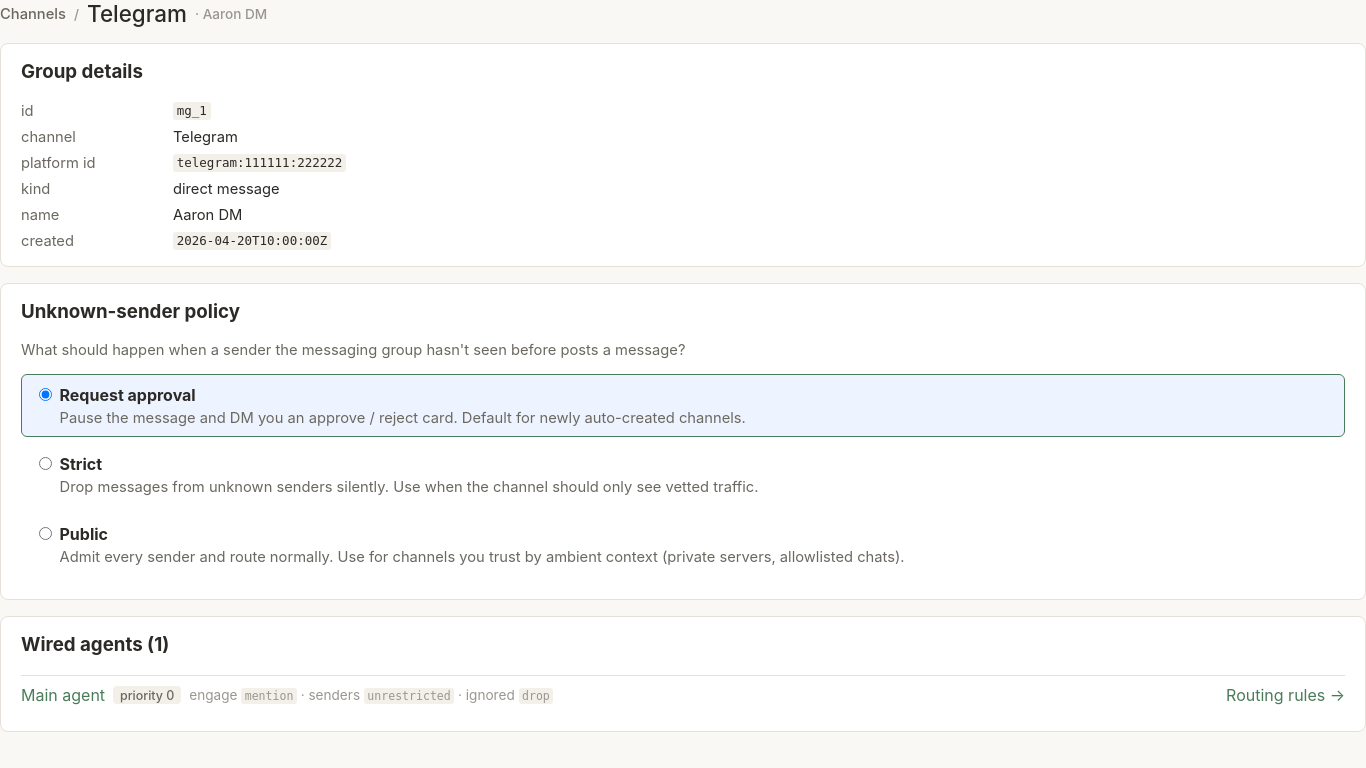
Scenario: MessagingGroupDetail — policy edit › surfaces an error banner when the PATCH fails
Expected: the radio button labelled "Request approval" is checked, [39,388,52,401]
What coordinates should you click on to do the following:
click the radio button labelled "Strict"
I would click on:
 (46, 464)
Its box is [39,457,52,470].
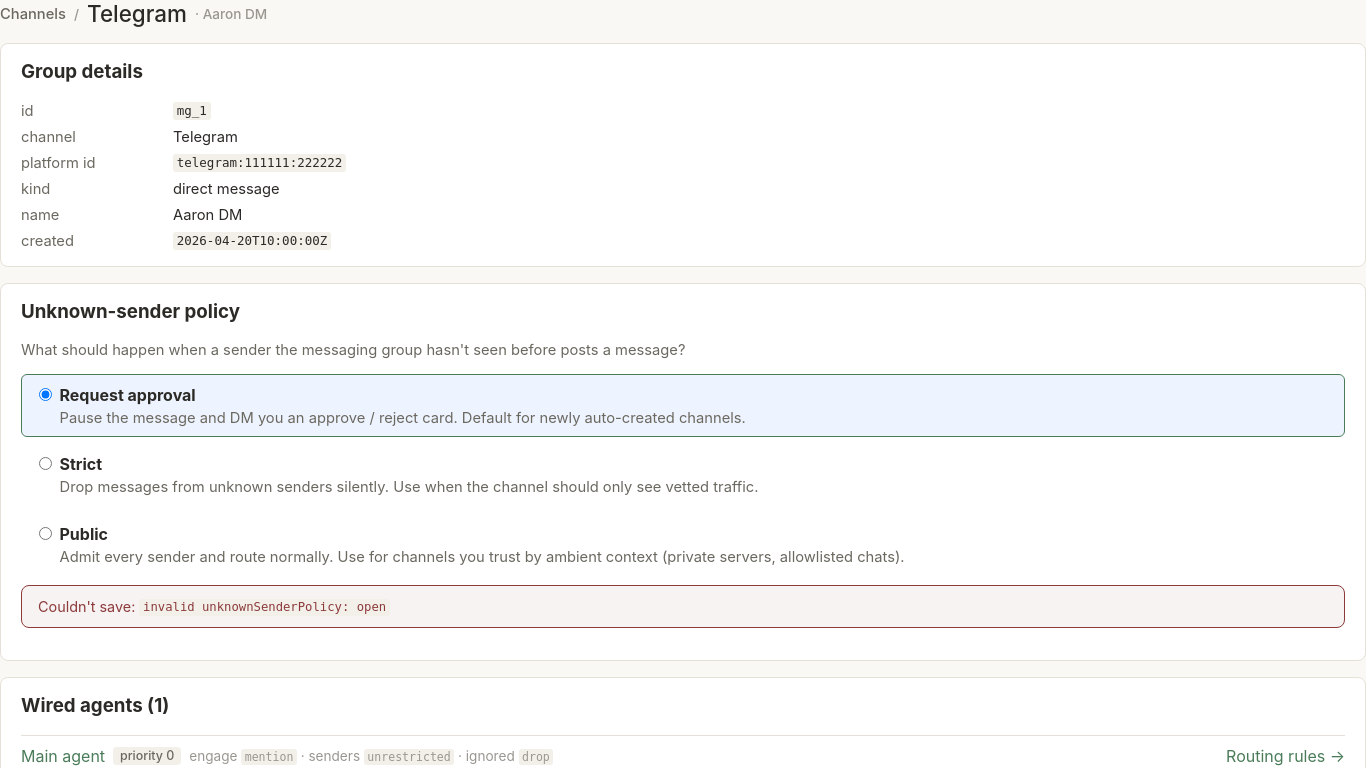
Expected: the radio button labelled "Request approval" is checked, [39,388,52,401]
Result: the text "Couldn't save: invalid unknownSenderPolicy: open" is shown at [21,584,1345,628]
Result: the text "invalid unknownSenderPolicy: open" is shown at [139,599,390,616]
